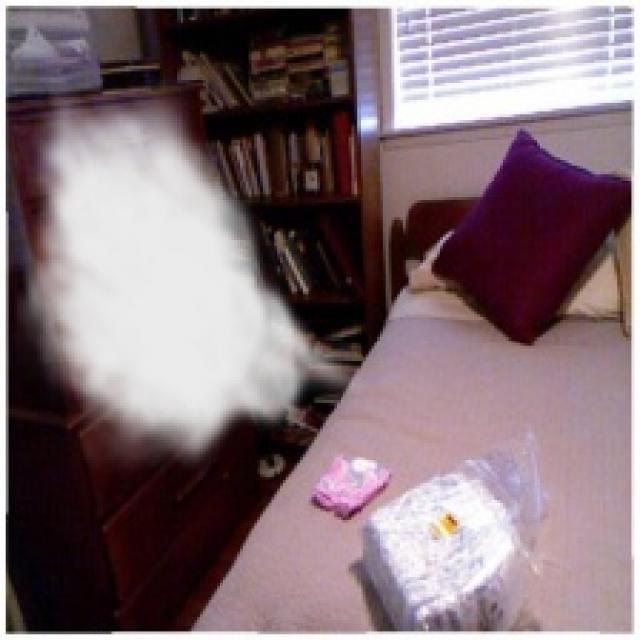smoke: (14, 74, 374, 474)
